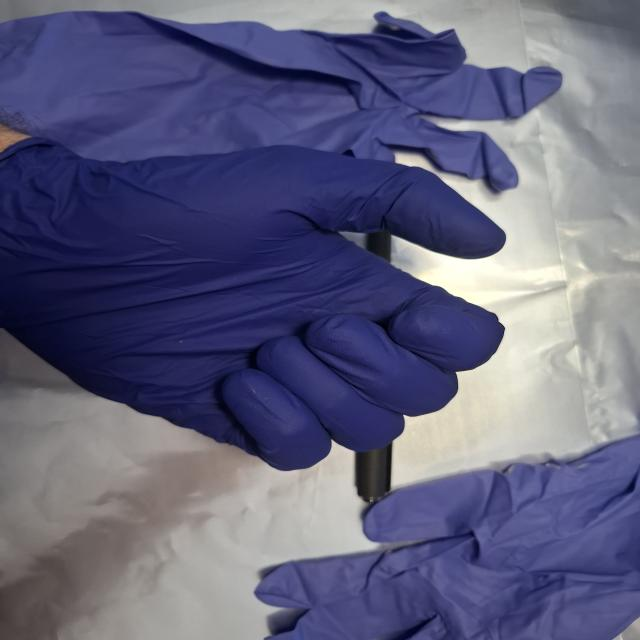glove_on: (0, 132, 512, 474)
